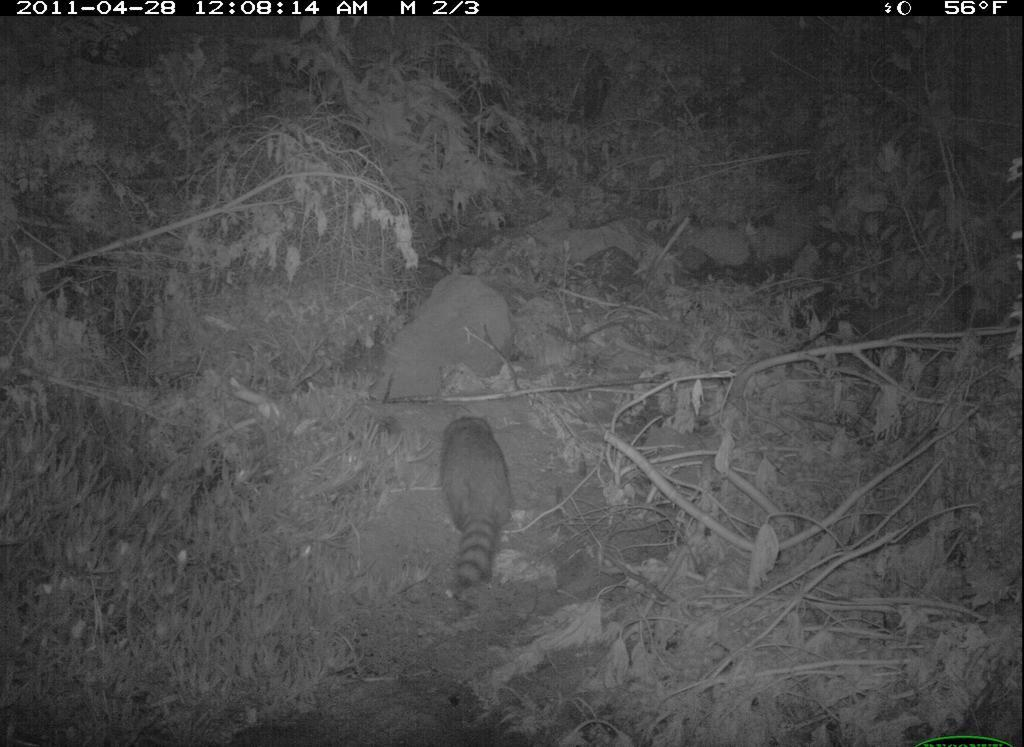raccoon: (428, 401, 523, 615)
